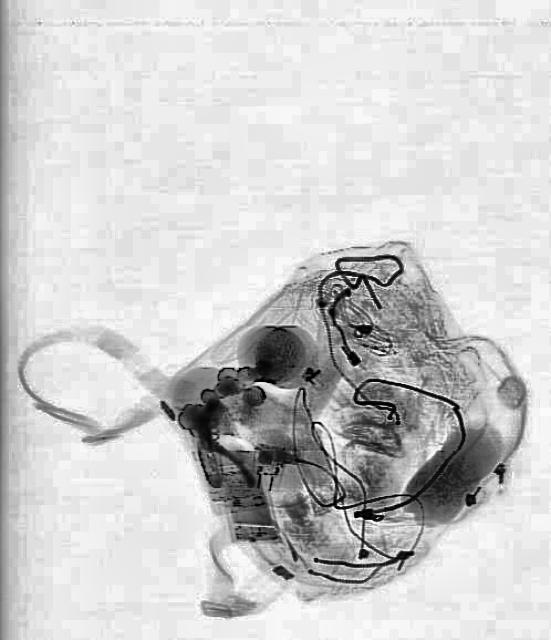Pliers: (179, 408, 253, 502)
